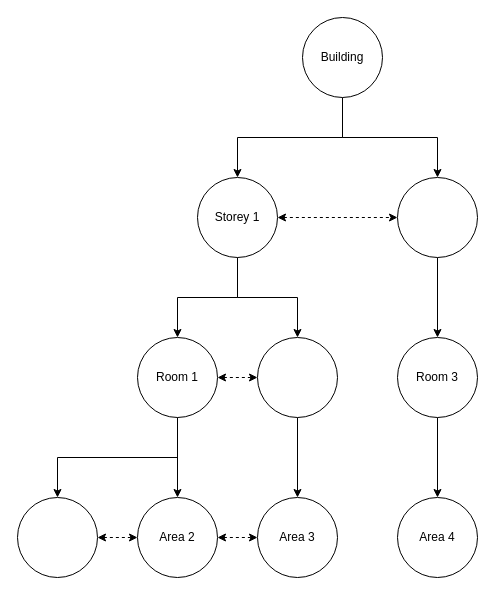
The diagram is 495 pixels wide and 595 high, and some of its shapes have lost their labels. Here are the shapes that lost their labels. From the top down, the centre of each, then its label:
At (x=437, y=217): "Storey 2".
At (x=297, y=377): "Room 2".
At (x=57, y=537): "Area 1".
